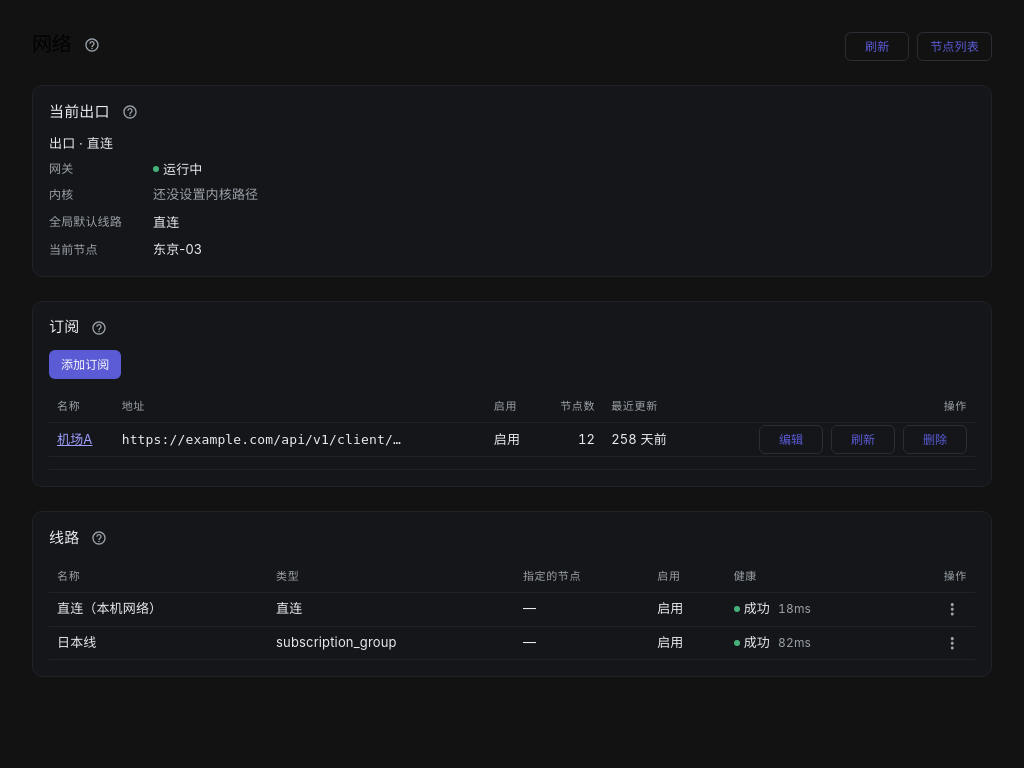
Scenario: ⑪ /network 订阅写界面：点了真的调命令，并且显示后端返回的对象 › 刷新某一行 → subscription_refresh：{id, force: true}，结果区显示后端 RefreshResult
Click the button with test id "network-subscriptions-refresh": (863, 440) [831,425,895,454]
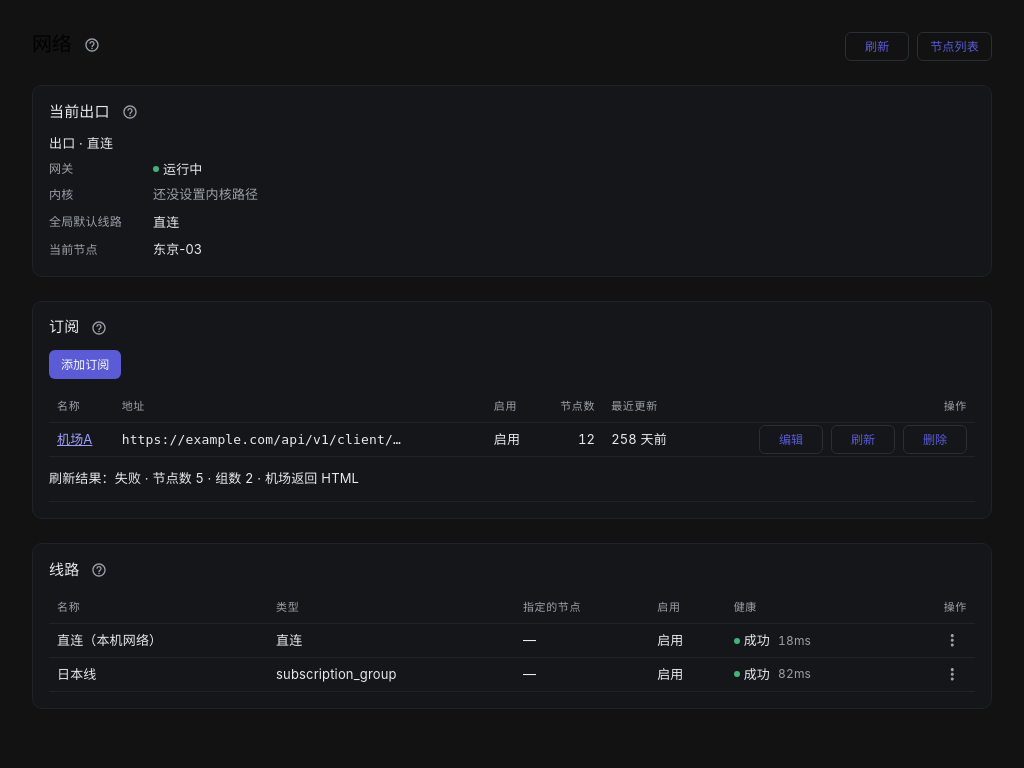
Result: the text with test id "network-subscriptions-refresh-result" shows "5" at [141,470,204,486]
Result: the text with test id "network-subscriptions-refresh-result" shows "2" at [204,470,253,486]
Result: the text with test id "network-subscriptions-refresh-result" shows "机场返回 HTML" at [253,470,359,486]
